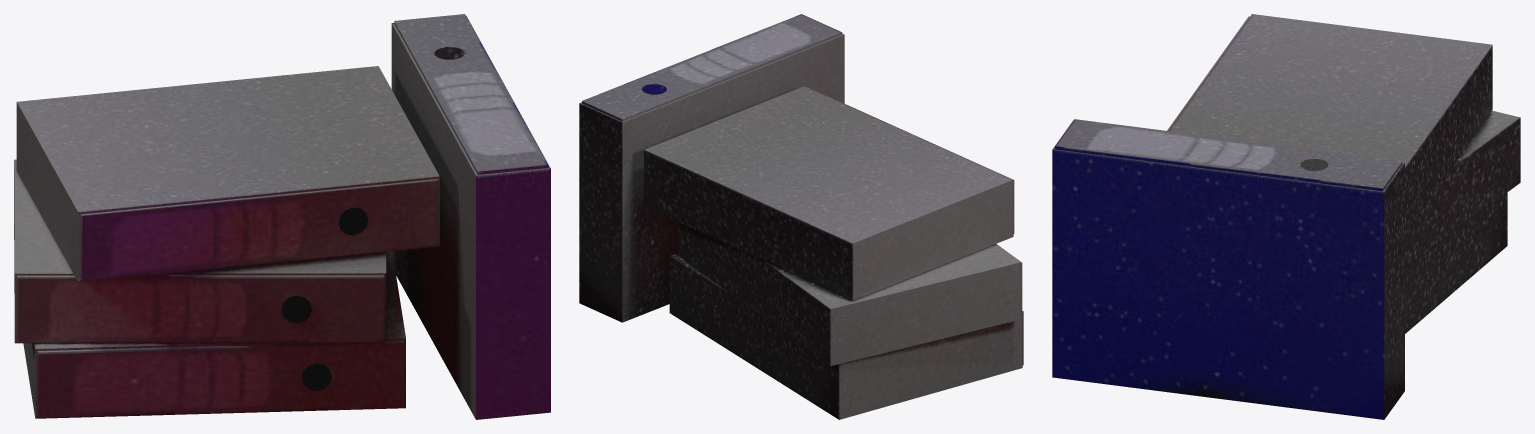
The model's file is transfert_boxes.glb.
The picture shows the model from 3 angles, left to right: view 1: azimuth 30°, elevation 25°; view 2: azimuth 150°, elevation 25°; view 3: azimuth 270°, elevation 25°; orthographic projection. The views are drawn at different scales.
Parts seen in each view (by area): view 1: transfert_boxes; view 2: transfert_boxes; view 3: transfert_boxes.
Part boxes in pixels (x1=…): transfert_boxes: x1=14, y1=14, x2=550, y2=419; transfert_boxes: x1=579, y1=14, x2=1023, y2=419; transfert_boxes: x1=1052, y1=14, x2=1520, y2=419.
Size of the model in its own units: 4.46 by 2.13 by 3.92.
Materials: 1 (1 with a texture image).
